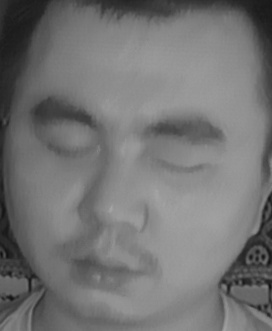blink: (154, 145, 213, 185), (42, 129, 96, 169)
mouth: (64, 240, 144, 293)
